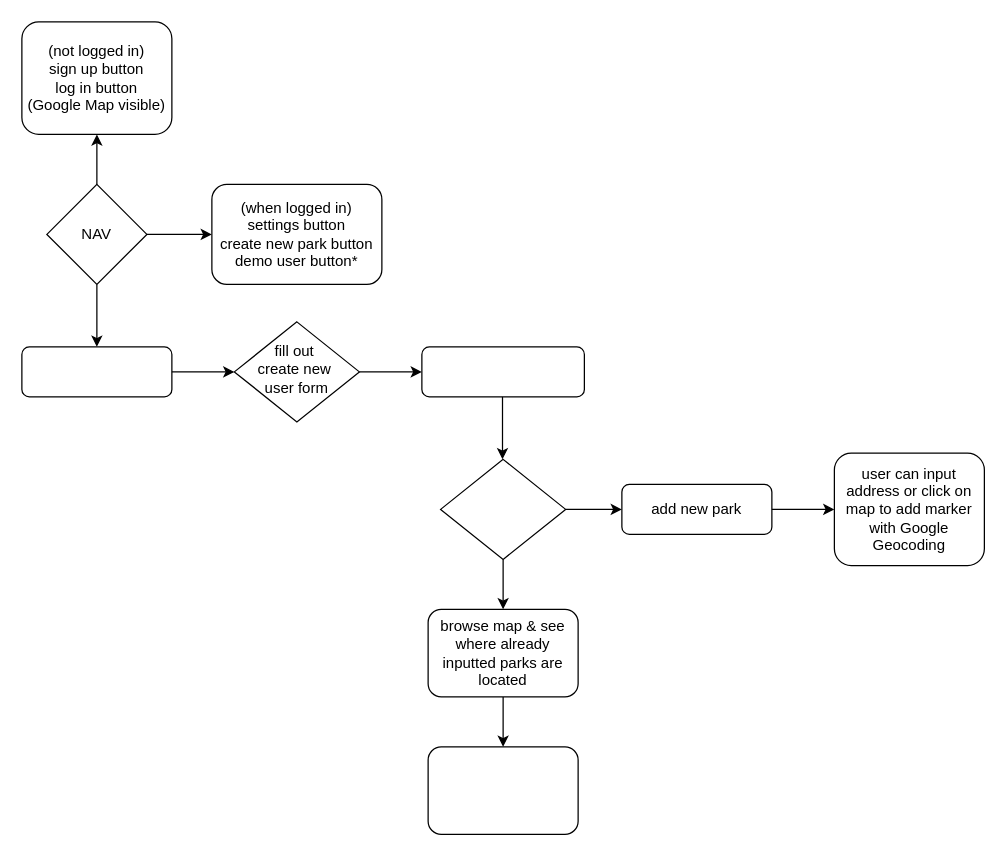
The diagram is 1006 pixels wide and 856 high, and some of its shapes have lost their labels. The box of each missing label's shape, as (x1, y1, x2, y2) in pixels:
click create account button: (21, 346, 172, 397)
click marker to display park info in side window: (427, 746, 578, 834)
MAP Google Map API: (439, 458, 566, 559)
submit new user form: (421, 346, 584, 397)
